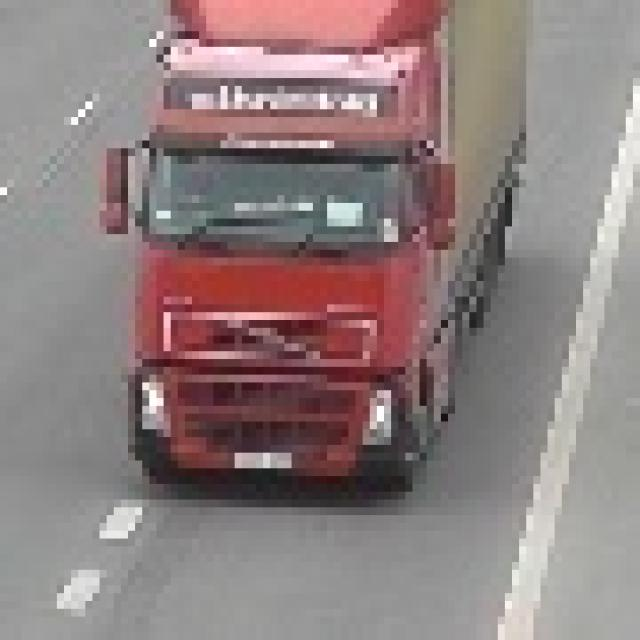TRUCK: (97, 0, 532, 497)
